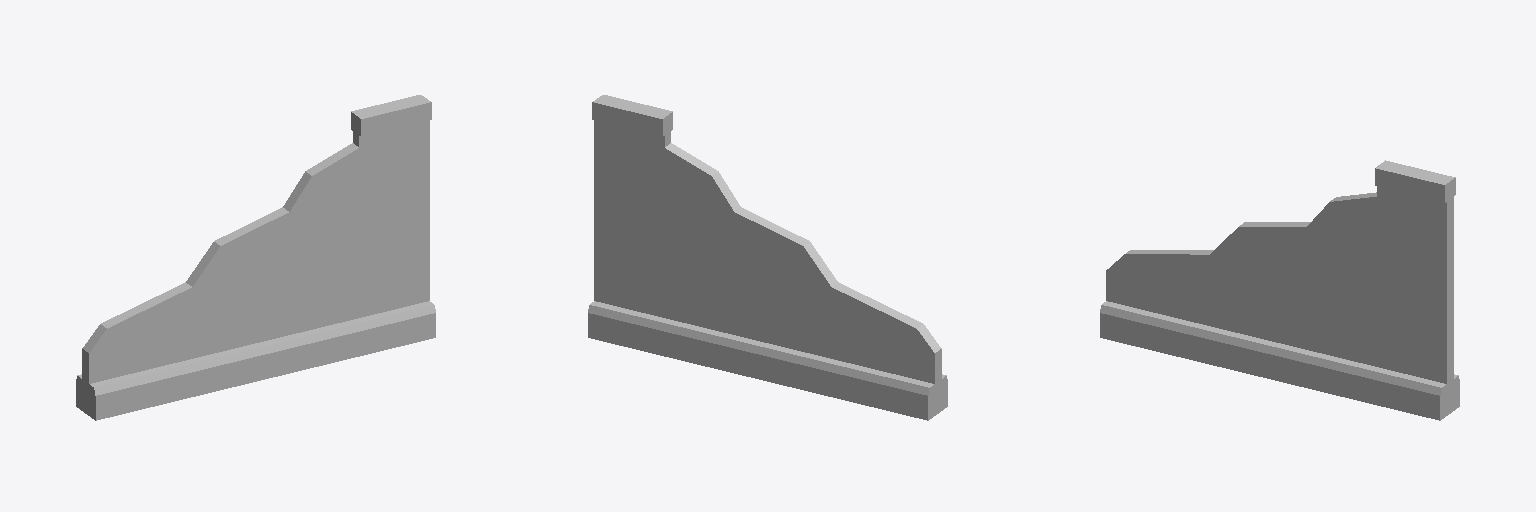
The model's file is fenceStoneStraightAged.obj.
The picture shows the model from 3 angles: view 1: azimuth 30°, elevation 25°; view 2: azimuth 150°, elevation 25°; view 3: azimuth 330°, elevation 25°; orthographic projection.
Visible parts, largest first — view 1: fenceStoneStraightAged; view 2: fenceStoneStraightAged; view 3: fenceStoneStraightAged.
Part boxes in pixels (x1,y1,x2,y2): fenceStoneStraightAged: (76,95,435,420); fenceStoneStraightAged: (588,95,947,420); fenceStoneStraightAged: (1100,160,1459,420).
Bounding box in the file's own units: 1 × 0.6519 × 0.1.